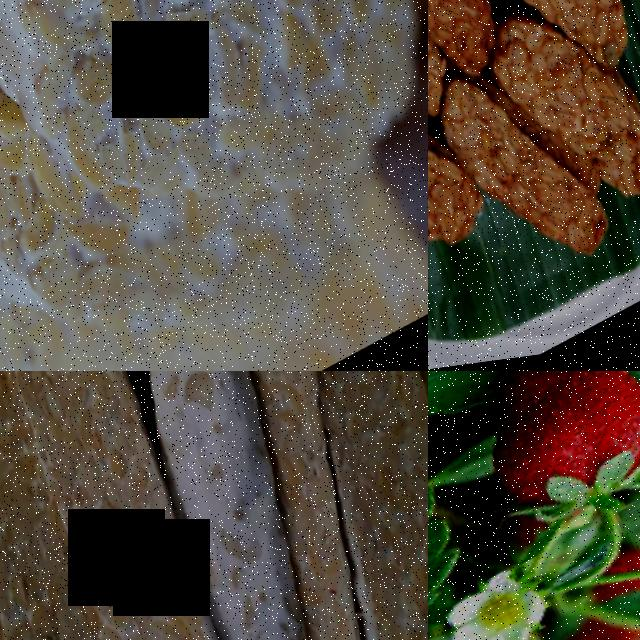strawberry: (464, 371, 640, 550)
tempeh: (0, 0, 428, 324), (0, 371, 295, 640), (103, 371, 319, 584), (0, 0, 110, 371), (234, 371, 428, 512), (470, 80, 602, 283), (291, 475, 428, 640), (523, 32, 640, 224), (0, 509, 141, 640), (170, 545, 333, 640), (428, 87, 481, 274)
